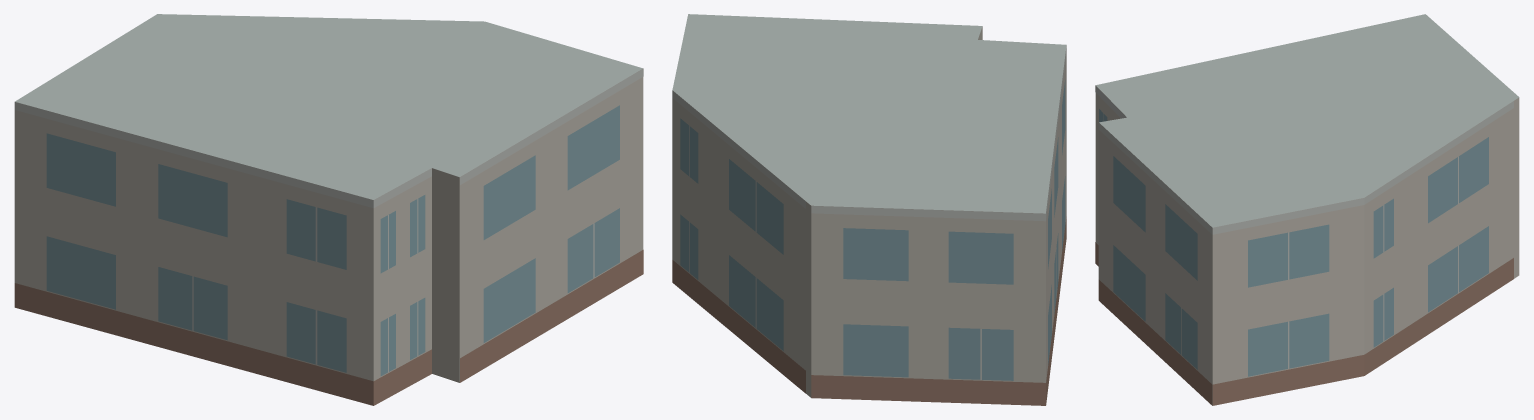
File: survey-upis-32901343.glb
3 views of the same model, side by side, from view 1: azimuth 30°, elevation 25°; view 2: azimuth 150°, elevation 25°; view 3: azimuth 270°, elevation 25° (orthographic). The views are drawn at different scales.
Parts seen in each view (by area): view 1: survey-upis-32901343.tmp; view 2: survey-upis-32901343.tmp; view 3: survey-upis-32901343.tmp.
Boxes of the visible parts, left/top/right/bottom form: survey-upis-32901343.tmp: left=14, top=14, right=643, bottom=405; survey-upis-32901343.tmp: left=672, top=14, right=1066, bottom=405; survey-upis-32901343.tmp: left=1095, top=14, right=1519, bottom=405.
Bounding box in the file's own units: 15.7 × 6.1 × 13.16.
